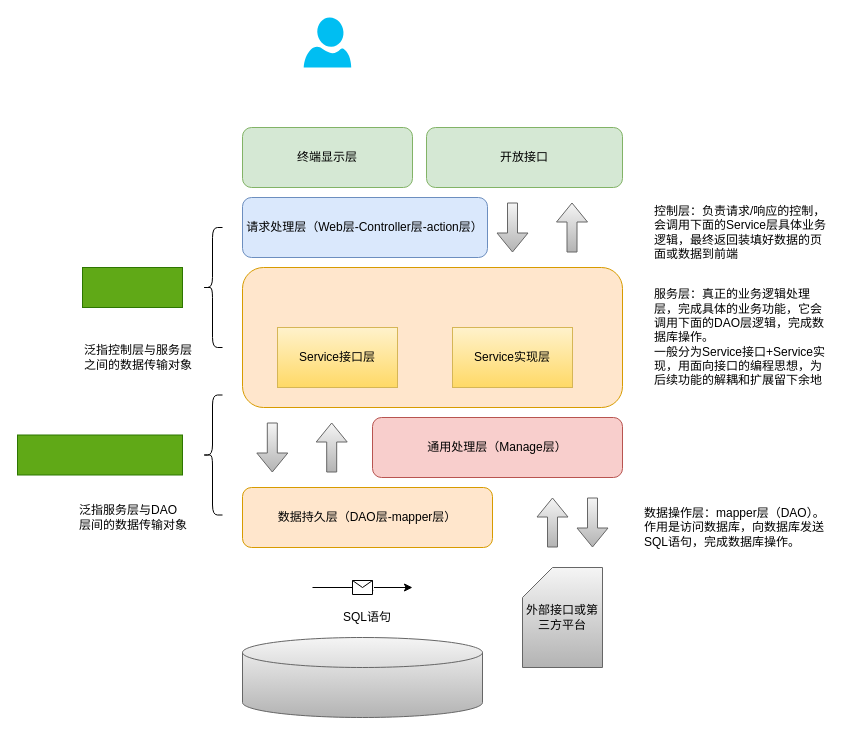
Image size: 865x735. Some labels were removed from this diagram. The shapes that lost their labels are listed below. From the top down, each one's box as (x1, y1, x2, y2) in pixels, then its label:
(82, 266, 182, 308): DTO/VO
(242, 266, 622, 408): 业务逻辑层（Service层）
(16, 434, 182, 475): DO(domain obj)/Entity/pojo
(242, 636, 482, 718): 数据源
